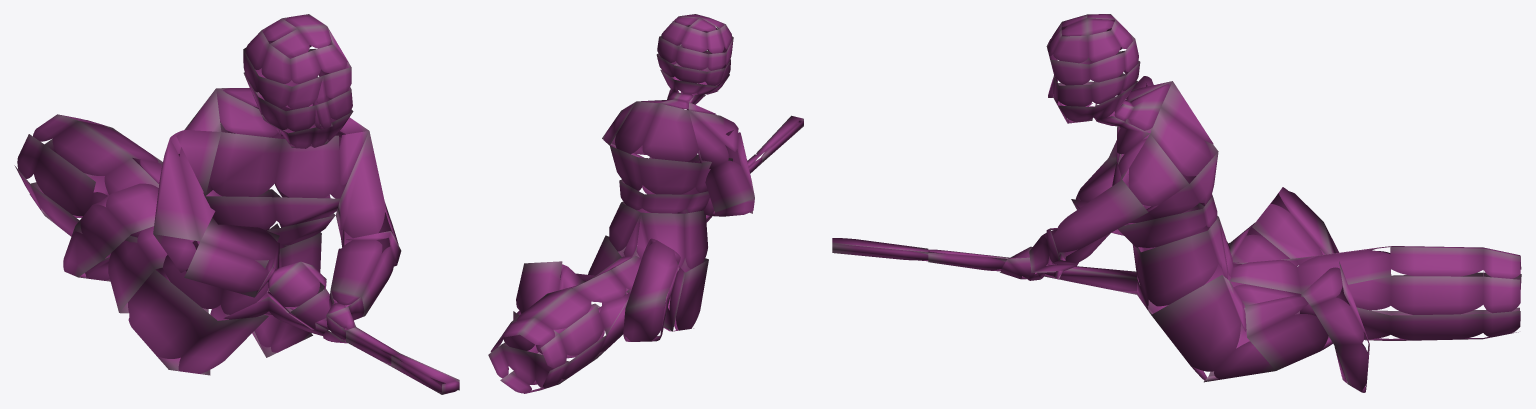
3 renders of one model, left to right at view 1: azimuth 30°, elevation 25°; view 2: azimuth 150°, elevation 25°; view 3: azimuth 270°, elevation 25°, orthographic. The views are drawn at different scales.
Parts seen in each view (by area): view 1: T1L7M005_9; view 2: T1L7M005_9; view 3: T1L7M005_9.
Boxes of the visible parts, x1,y1,x2,y2 form: T1L7M005_9: (14, 14, 459, 394); T1L7M005_9: (488, 14, 803, 393); T1L7M005_9: (832, 14, 1521, 392).
Size of the model in its own units: 0.5594 by 0.9683 by 1.77.
